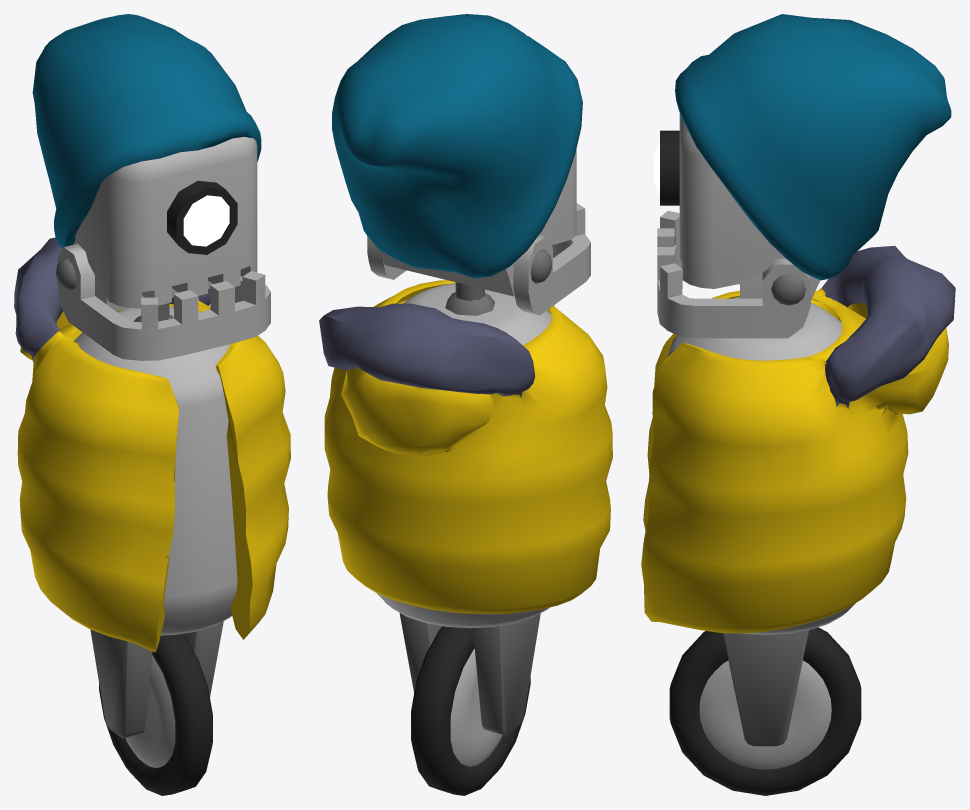
The model's file is YellowBot.fbx.
The picture shows the model from 3 angles, left to right: view 1: azimuth 30°, elevation 25°; view 2: azimuth 150°, elevation 25°; view 3: azimuth 270°, elevation 25°; orthographic projection. The views are drawn at different scales.
Visible parts, largest first — view 1: YellowBot; view 2: YellowBot; view 3: YellowBot.
Boxes of the visible parts, x1,y1,x2,y2 form: YellowBot: [14, 14, 290, 795]; YellowBot: [319, 14, 612, 795]; YellowBot: [641, 14, 955, 795].
Bounding box in the file's own units: 248 × 734 × 274.
